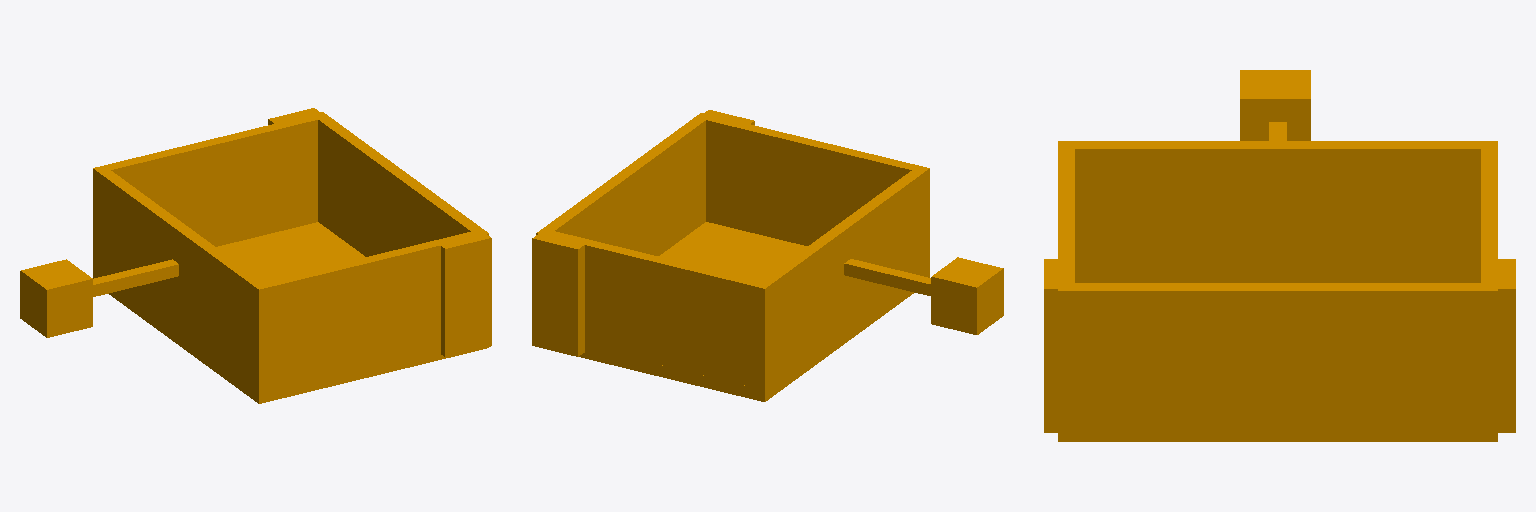
The robot description file, URDF, robot "model.urdf":
<?xml version="0.0" ?>
<robot name="model.urdf">
  <link name="baseLink">
    <contact>
      <friction_anchor/>
      <lateral_friction value="1"/>
      <rolling_friction value="1"/>

    </contact>
    <inertial>
       <origin rpy="0 0 0" xyz="0 0 0"/>
       <mass value="1.1"/>
            <inertia ixx="0.0" ixy="0.0" ixz="0.0" iyy="0.0" iyz="0.0" izz="0.0" />
    </inertial>
    <visual>
      <geometry>
        <mesh filename="./drawer/drawerhandle.obj" scale="1 1 1"/>
      </geometry>
    </visual>
    <collision>
      <geometry>
    	 	<mesh filename="./drawer/drawerhandle.obj" scale="1 1 1"/>
      </geometry>
    </collision>
  </link>
</robot>

--- What the picture shows (computed from the rendered views, not written in the file) ---
3 views of the same robot in one strip: view 1: azimuth 30°, elevation 25°; view 2: azimuth 150°, elevation 25°; view 3: azimuth 270°, elevation 25° (orthographic).
Model model.urdf with 1 links and 0 joints (none), rooted at baseLink, posed every joint at zero.
Links seen in each view (by area): view 1: baseLink; view 2: baseLink; view 3: baseLink.
Boxes of the visible links, <box> form: baseLink: <box>20,108,491,403</box>; baseLink: <box>532,110,1003,401</box>; baseLink: <box>1044,70,1515,441</box>.
Size in the robot's own frame: 0.3244 by 0.2672 by 0.095 metres.
Meshes: 1 distinct files referenced, 1 mesh visuals loaded (1 OBJ).